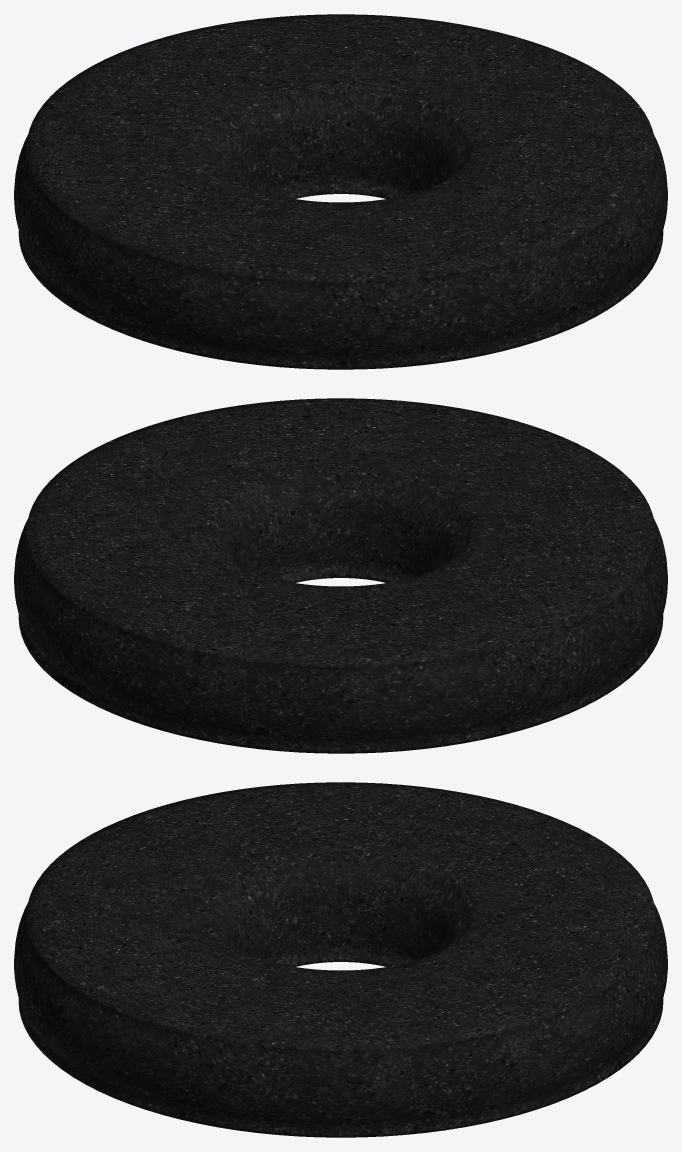
Rendered from tzaar-tzarra-black.glb.
3 renders of one model, top to bottom at view 1: azimuth 30°, elevation 25°; view 2: azimuth 150°, elevation 25°; view 3: azimuth 270°, elevation 25°, orthographic.
Parts seen in each view (by area): view 1: tzaar-tzarra-black; view 2: tzaar-tzarra-black; view 3: tzaar-tzarra-black.
Boxes of the visible parts, x1,y1,x2,y2 form: tzaar-tzarra-black: (14,14,667,369); tzaar-tzarra-black: (14,398,667,753); tzaar-tzarra-black: (14,782,667,1137).
Bounding box in the file's own units: 0.028 × 0.00435 × 0.028.
Materials: 1 (1 with a texture image).
